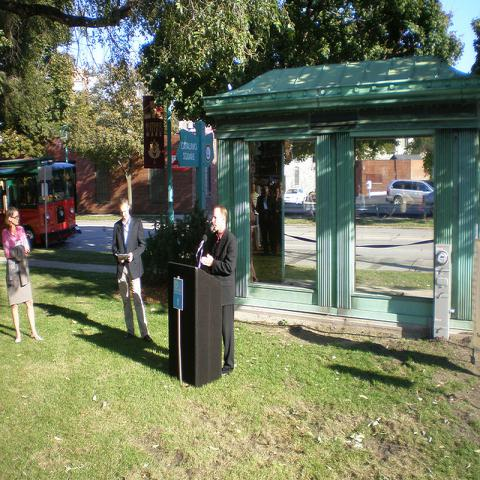bus: (0, 161, 77, 253)
car: (385, 178, 435, 205), (283, 188, 308, 204)
